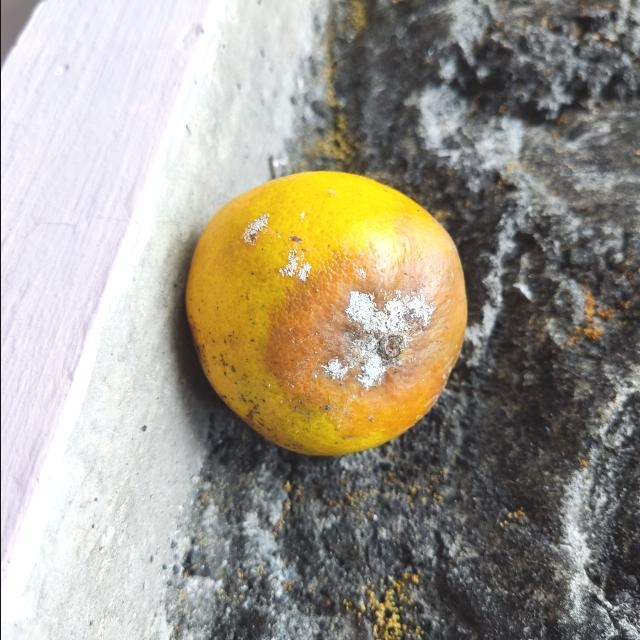agrume: (183, 168, 469, 455)
